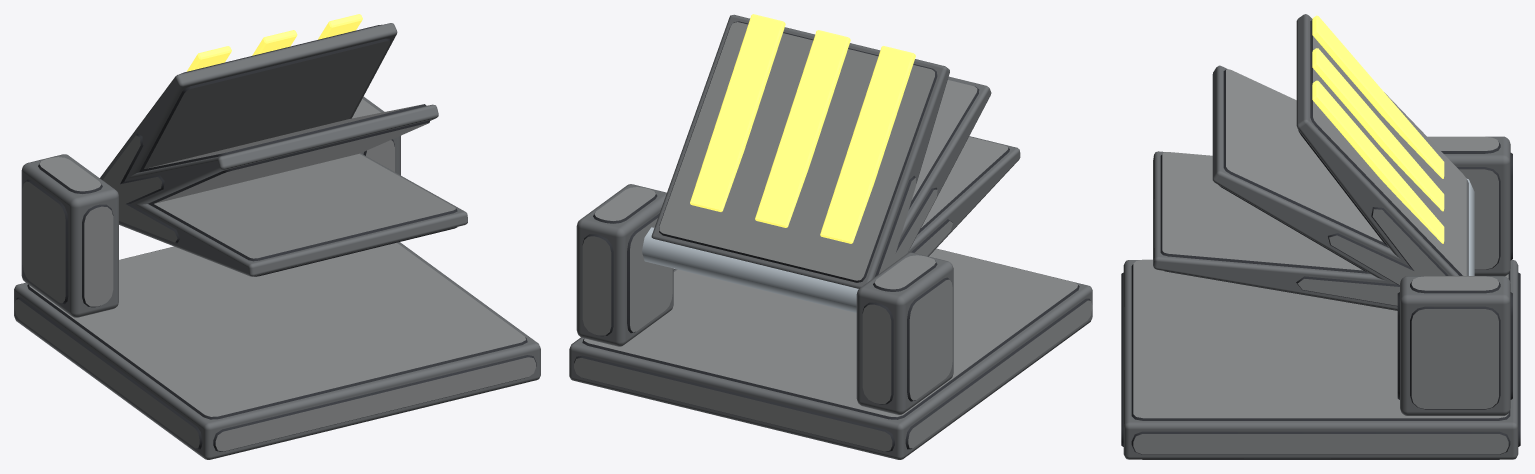
File: R4X_RampDeployer.glb
3 views of the same model, side by side, from view 1: azimuth 30°, elevation 25°; view 2: azimuth 150°, elevation 25°; view 3: azimuth 270°, elevation 25° (orthographic). The views are drawn at different scales.
Visible parts, largest first — view 1: R4X_RampDeployer_Body; view 2: R4X_RampDeployer_Body; view 3: R4X_RampDeployer_Body.
Boxes of the visible parts, x1,y1,x2,y2 form: R4X_RampDeployer_Body: (14, 14, 540, 459); R4X_RampDeployer_Body: (569, 14, 1092, 459); R4X_RampDeployer_Body: (1121, 14, 1520, 459).
Size of the model in its own units: 0.52 by 0.4673 by 0.52.
